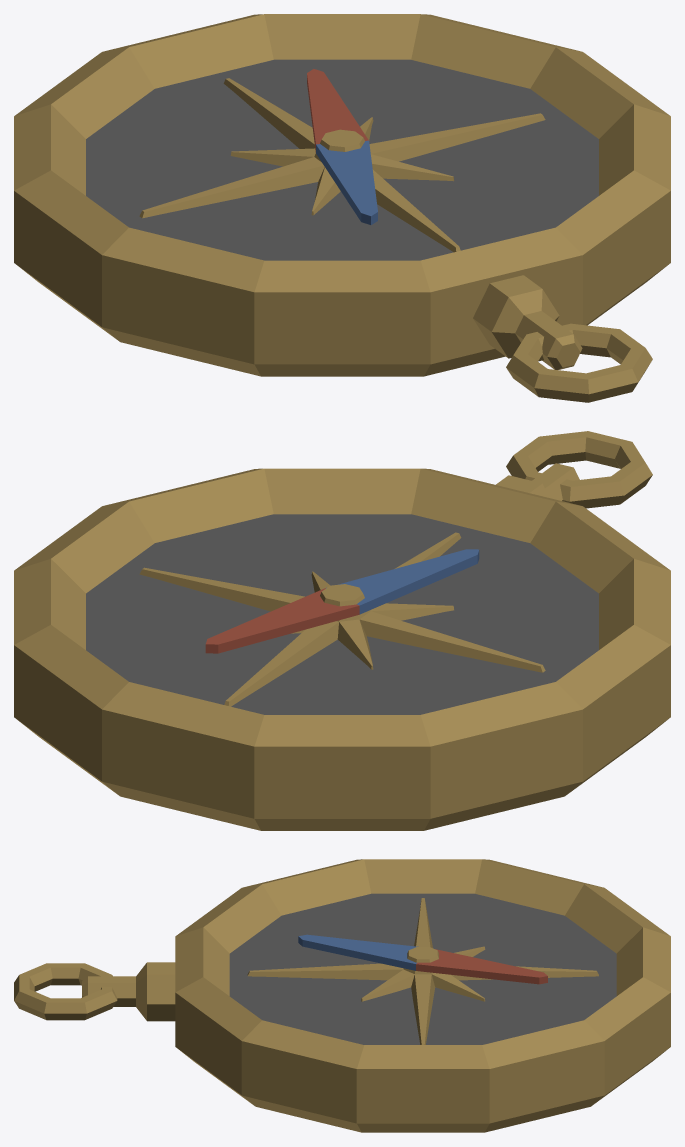
The model's file is compass.fbx.
The picture shows the model from 3 angles, top to bottom: view 1: azimuth 30°, elevation 25°; view 2: azimuth 150°, elevation 25°; view 3: azimuth 270°, elevation 25°; orthographic projection. The views are drawn at different scales.
Visible parts, largest first — view 1: Compass; view 2: Compass; view 3: Compass.
Boxes of the visible parts, x1,y1,x2,y2 form: Compass: [14, 14, 670, 402]; Compass: [14, 431, 670, 830]; Compass: [14, 859, 670, 1132].
Size of the model in its own units: 10.97 by 2.04 by 14.54.
